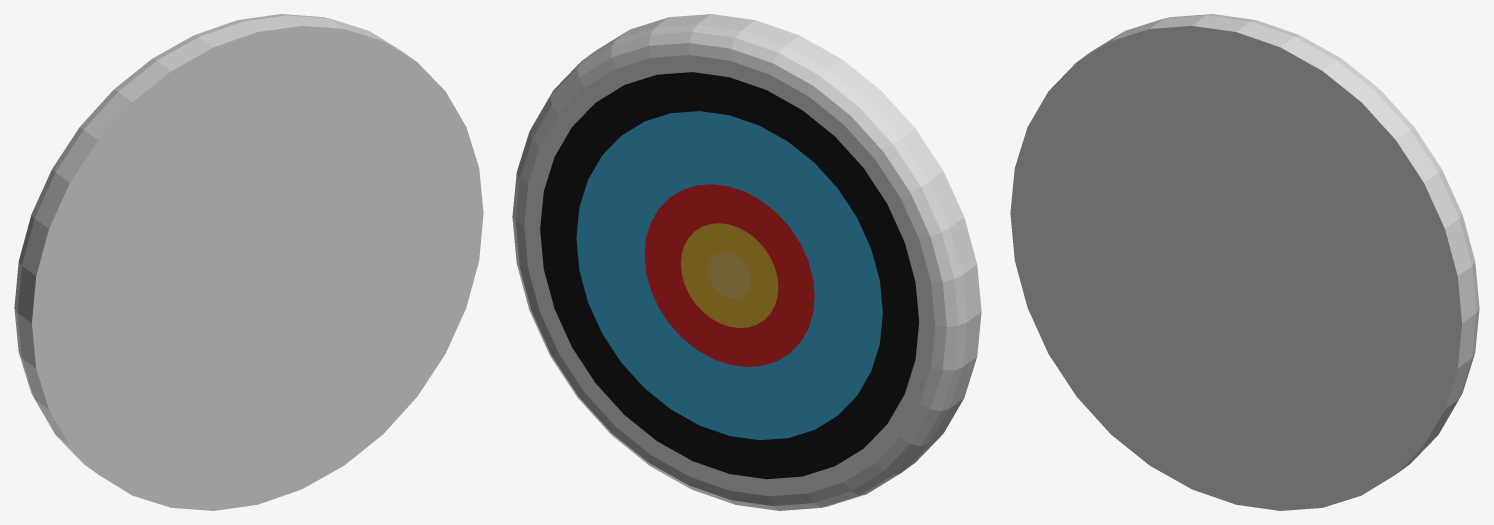
Rendered from Target.fbx.
The picture shows the model from 3 angles, left to right: view 1: azimuth 30°, elevation 25°; view 2: azimuth 150°, elevation 25°; view 3: azimuth 330°, elevation 25°; orthographic projection.
Visible parts, largest first — view 1: Cylinder; view 2: Cylinder; view 3: Cylinder.
Part boxes in pixels (left/top/right/bottom): Cylinder: left=14, top=14, right=483, bottom=510; Cylinder: left=512, top=14, right=981, bottom=510; Cylinder: left=1010, top=14, right=1479, bottom=510.
Size of the model in its own units: 100 by 100 by 10.
